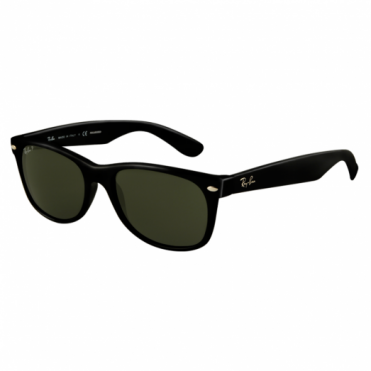sunglasses: (3, 123, 306, 236)
